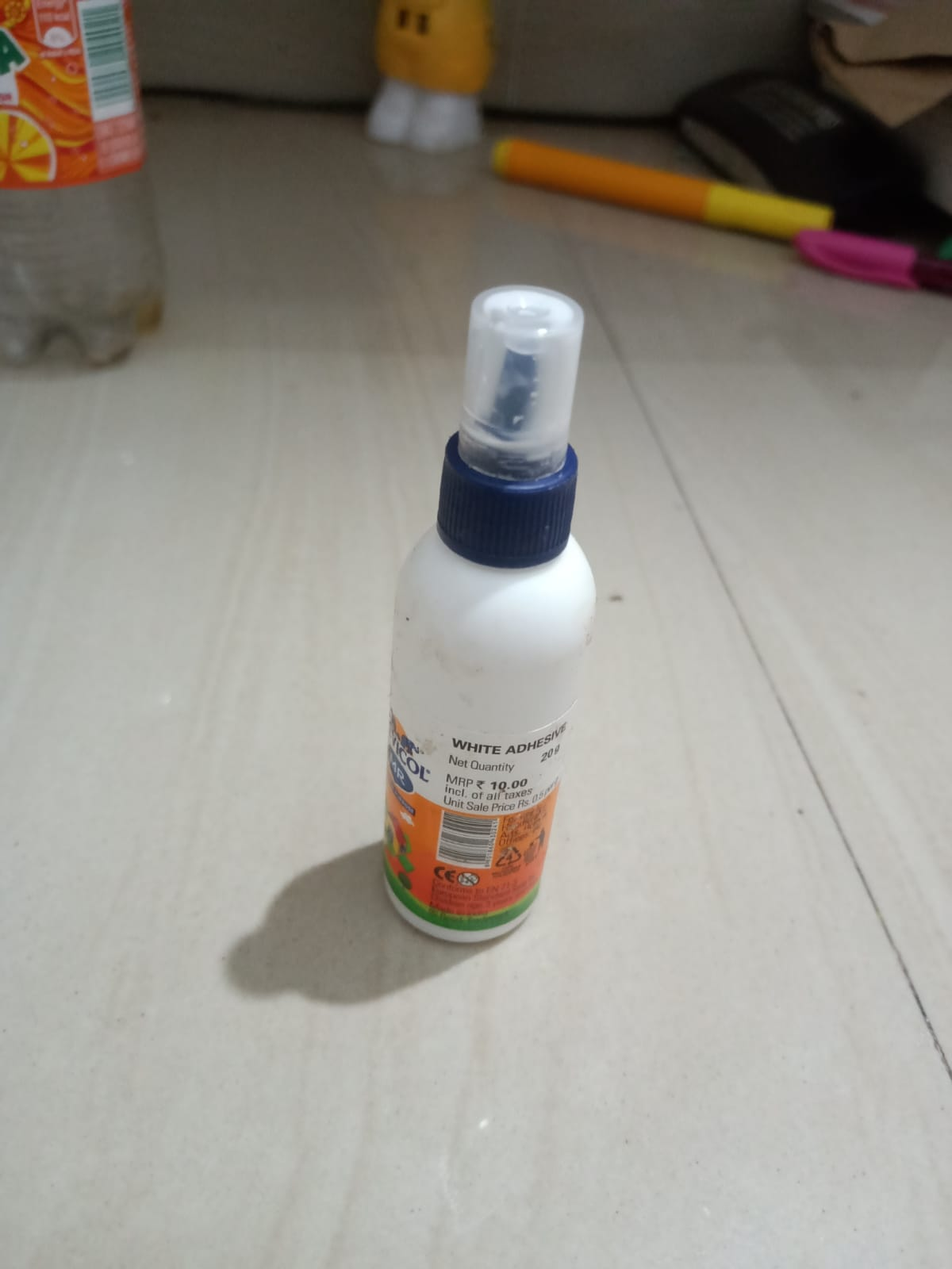plastic: (363, 283, 608, 961)
